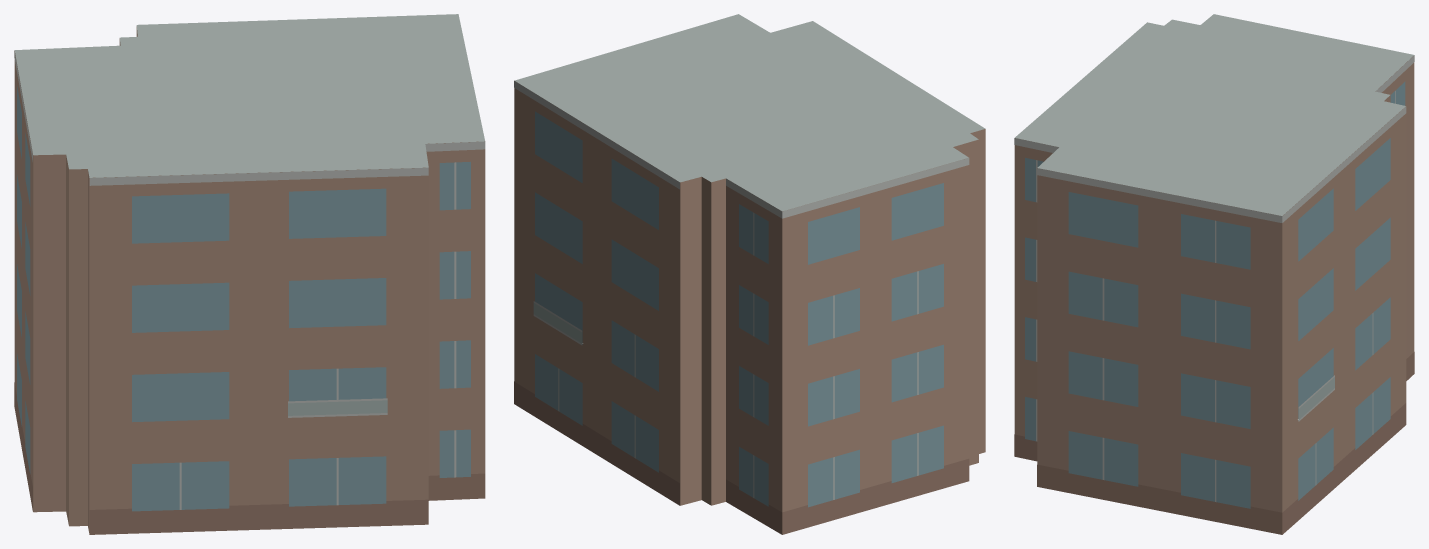
File: survey-upis-32937139.glb
3 renders of one model, left to right at view 1: azimuth 30°, elevation 25°; view 2: azimuth 150°, elevation 25°; view 3: azimuth 270°, elevation 25°, orthographic. The views are drawn at different scales.
Parts seen in each view (by area): view 1: survey-upis-32937139.tmp; view 2: survey-upis-32937139.tmp; view 3: survey-upis-32937139.tmp.
Boxes of the visible parts, <box> form: survey-upis-32937139.tmp: <box>14,14,485,534</box>; survey-upis-32937139.tmp: <box>514,14,985,534</box>; survey-upis-32937139.tmp: <box>1014,14,1414,534</box>.
Bounding box in the file's own units: 14.83 × 10.9 × 12.4.
